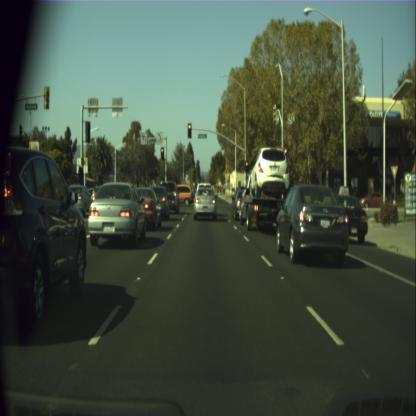Red: (187, 122, 191, 138)
RedLeft: (160, 146, 164, 160)
